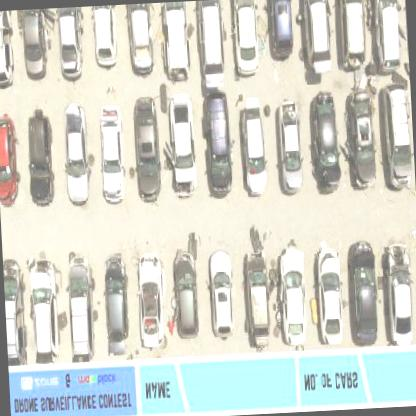car: (339, 86, 378, 190), (242, 238, 272, 363), (236, 99, 272, 198), (308, 93, 342, 194), (201, 94, 234, 196), (347, 242, 379, 346), (131, 94, 161, 204), (171, 237, 202, 342), (168, 90, 198, 198), (384, 84, 413, 186), (25, 110, 56, 205), (102, 254, 130, 356), (63, 106, 92, 204), (387, 242, 415, 342), (98, 104, 126, 204), (280, 247, 308, 346), (68, 257, 94, 362), (340, 0, 370, 86), (138, 256, 166, 348), (277, 98, 304, 193), (242, 99, 268, 194), (318, 245, 342, 347), (31, 284, 60, 363), (207, 248, 232, 338), (163, 3, 191, 80), (0, 115, 22, 207), (306, 0, 333, 73), (20, 10, 48, 80), (234, 1, 260, 76), (55, 6, 81, 78), (90, 6, 119, 70), (127, 5, 153, 76), (199, 1, 220, 86), (377, 0, 402, 71), (268, 0, 298, 59), (0, 11, 16, 88)
